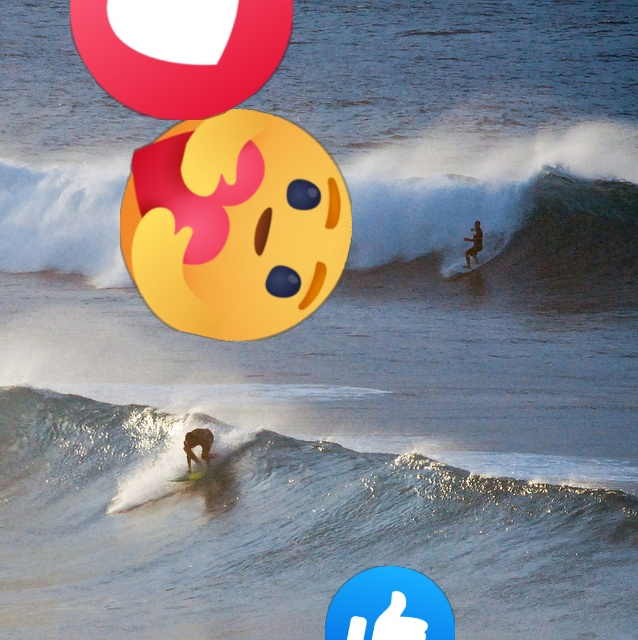care: (120, 109, 352, 341)
like: (325, 566, 455, 640)
love: (70, 0, 293, 120)
